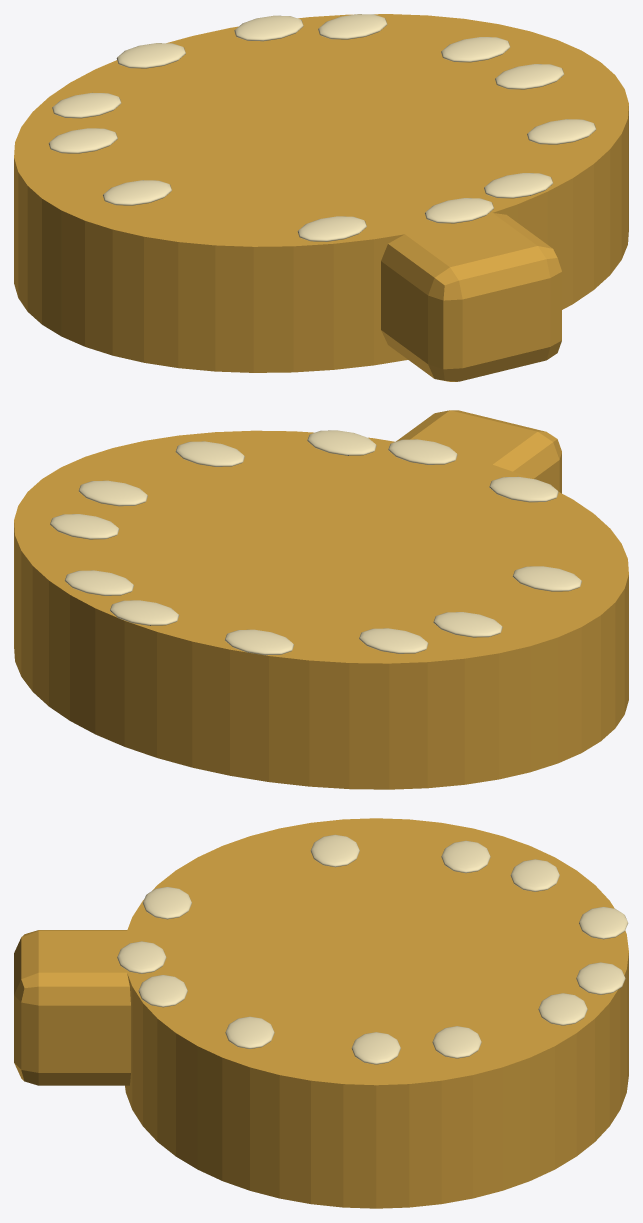
Rendered from food_queso_runtime.glb.
3 renders of one model, top to bottom at view 1: azimuth 30°, elevation 25°; view 2: azimuth 150°, elevation 25°; view 3: azimuth 270°, elevation 25°, orthographic. The views are drawn at different scales.
Visible parts, largest first — view 1: Camembert rind, Cut creamy wedge, Rind bloom.003, Rind bloom.004, Rind bloom.007, Rind bloom.010, Rind bloom, Rind bloom.005, Rind bloom.006, Rind bloom.009, Rind bloom.002, Rind bloom.008 (+2 smaller); view 2: Camembert rind, Cut creamy wedge, Rind bloom.001, Rind bloom.009, Rind bloom.011, Rind bloom.002, Rind bloom.003, Rind bloom.004, Rind bloom.010, Rind bloom.008, Rind bloom.005, Rind bloom (+2 smaller); view 3: Camembert rind, Cut creamy wedge, Rind bloom.003, Rind bloom.007, Rind bloom.008, Rind bloom.011, Rind bloom, Rind bloom.002, Rind bloom.004, Rind bloom.006, Rind bloom.010, Rind bloom.001 (+2 smaller).
Part boxes in pixels (box(x1,y1,x2,y2)): Camembert rind: box(14, 14, 628, 372); Cut creamy wedge: box(381, 212, 561, 381); Rind bloom.003: box(318, 14, 387, 39); Rind bloom.004: box(102, 180, 171, 205); Rind bloom.007: box(297, 216, 366, 241); Rind bloom.010: box(484, 173, 553, 198); Rind bloom: box(495, 64, 564, 89); Rind bloom.005: box(527, 119, 596, 144); Rind bloom.006: box(116, 43, 185, 68); Rind bloom.009: box(48, 128, 117, 153); Rind bloom.002: box(424, 198, 493, 223); Rind bloom.008: box(441, 37, 510, 62); Camembert rind: box(14, 430, 628, 789); Cut creamy wedge: box(390, 410, 561, 493); Rind bloom.001: box(359, 628, 428, 653); Rind bloom.009: box(433, 612, 502, 637); Rind bloom.011: box(110, 600, 179, 625); Rind bloom.002: box(388, 439, 457, 464); Rind bloom.003: box(64, 570, 133, 595); Rind bloom.004: box(512, 566, 581, 591); Rind bloom.010: box(307, 430, 376, 455); Rind bloom.008: box(50, 514, 119, 539); Rind bloom.005: box(175, 441, 244, 466); Rind bloom: box(78, 480, 147, 506); Camembert rind: box(125, 818, 628, 1208); Cut creamy wedge: box(14, 930, 156, 1085); Rind bloom.003: box(538, 993, 587, 1025); Rind bloom.007: box(142, 887, 191, 919); Rind bloom.008: box(432, 1026, 481, 1058); Rind bloom.011: box(576, 962, 625, 994); Rind bloom: box(351, 1032, 400, 1064); Rind bloom.002: box(117, 941, 166, 973); Rind bloom.004: box(310, 834, 359, 867); Rind bloom.006: box(579, 906, 628, 939); Rind bloom.010: box(138, 975, 187, 1007); Rind bloom.001: box(510, 859, 559, 891).
Bounding box in the file's own units: 1.02 × 0.233 × 0.993.
